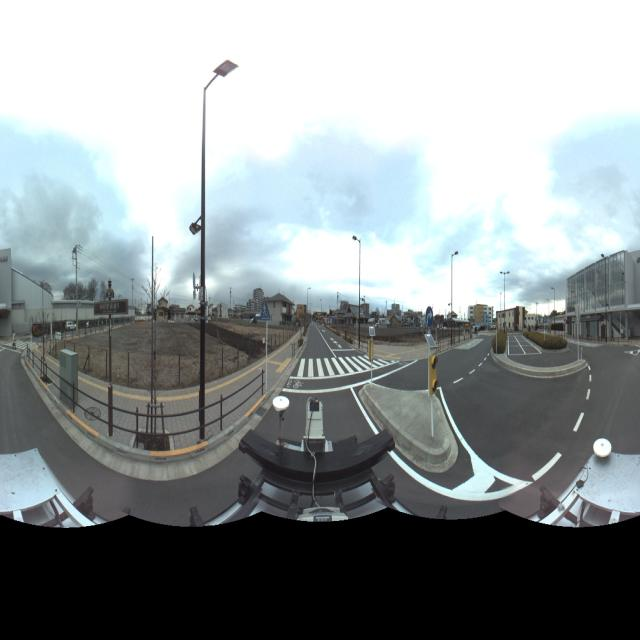b_1: (562, 243, 640, 348), (494, 298, 544, 339), (463, 297, 498, 337), (262, 291, 294, 334), (238, 281, 269, 323)
